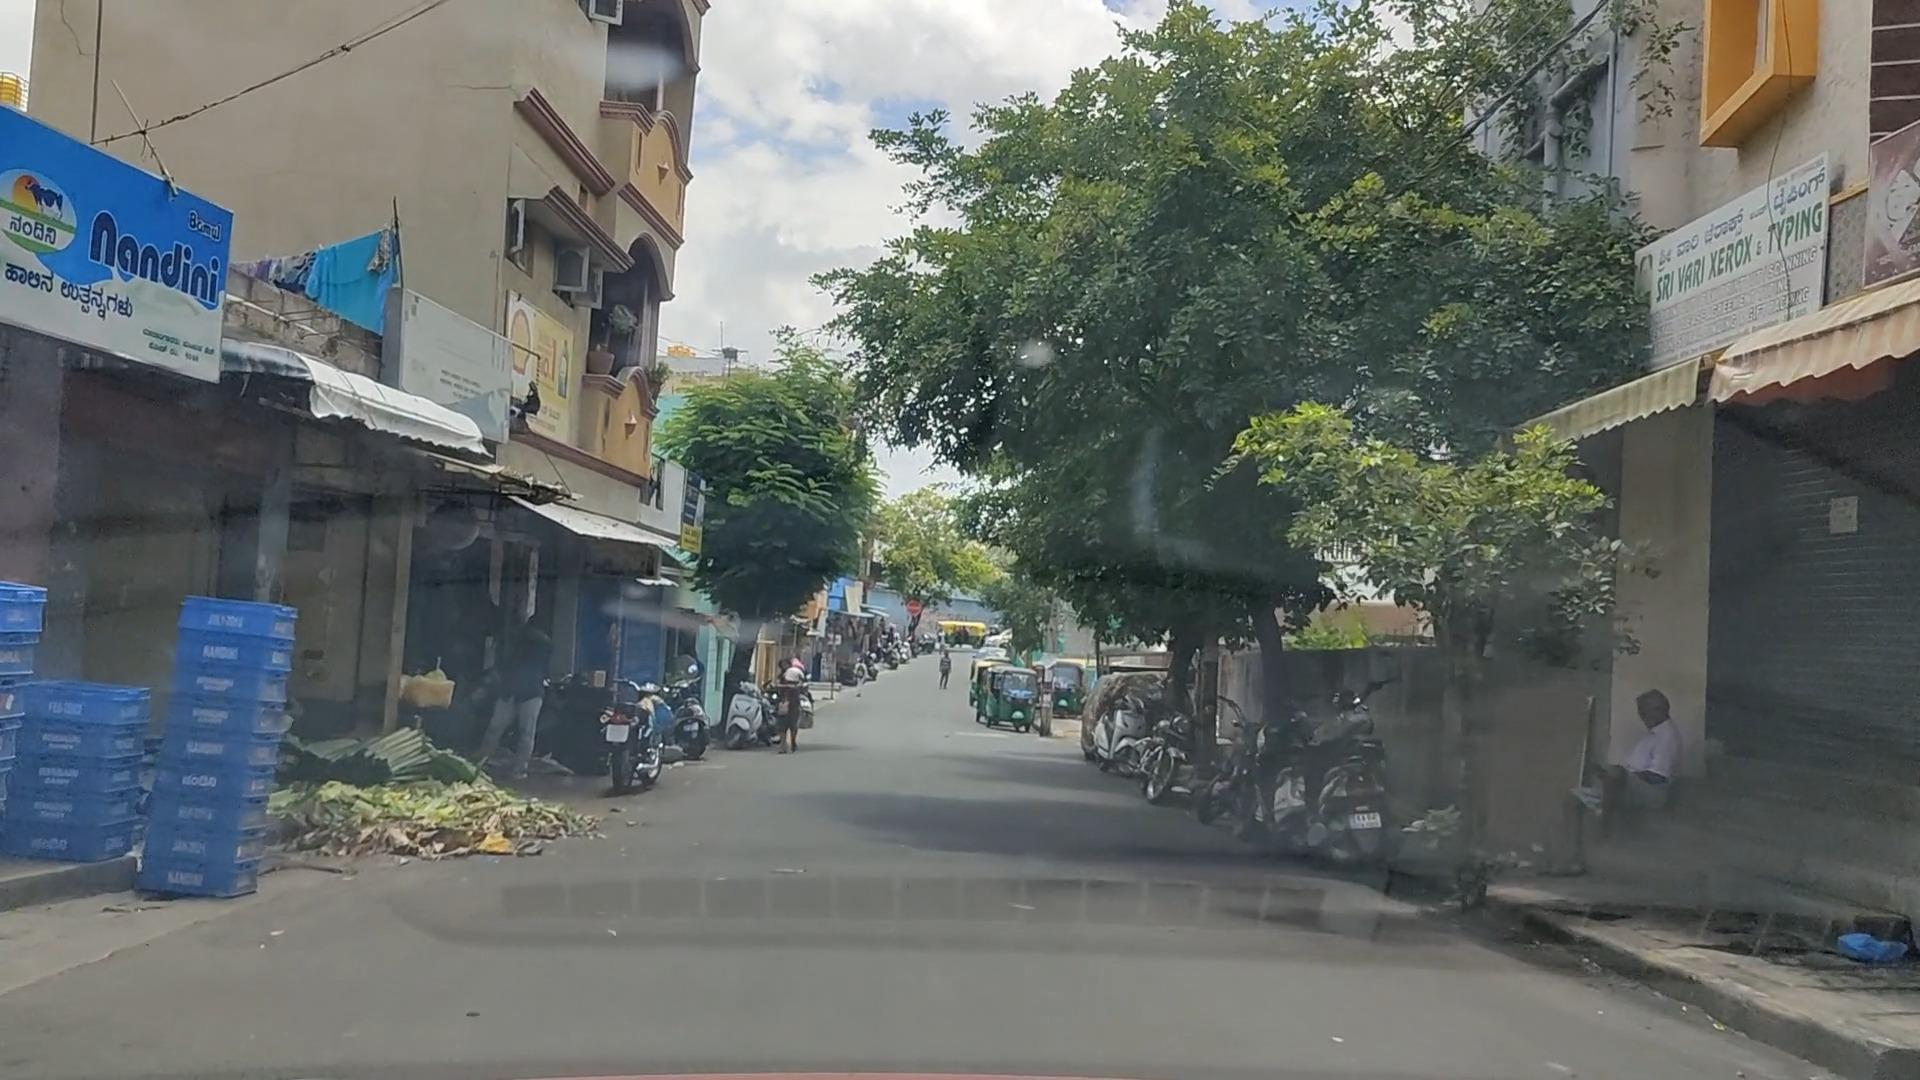LMV: (595, 676, 662, 794), (975, 669, 1023, 732)
